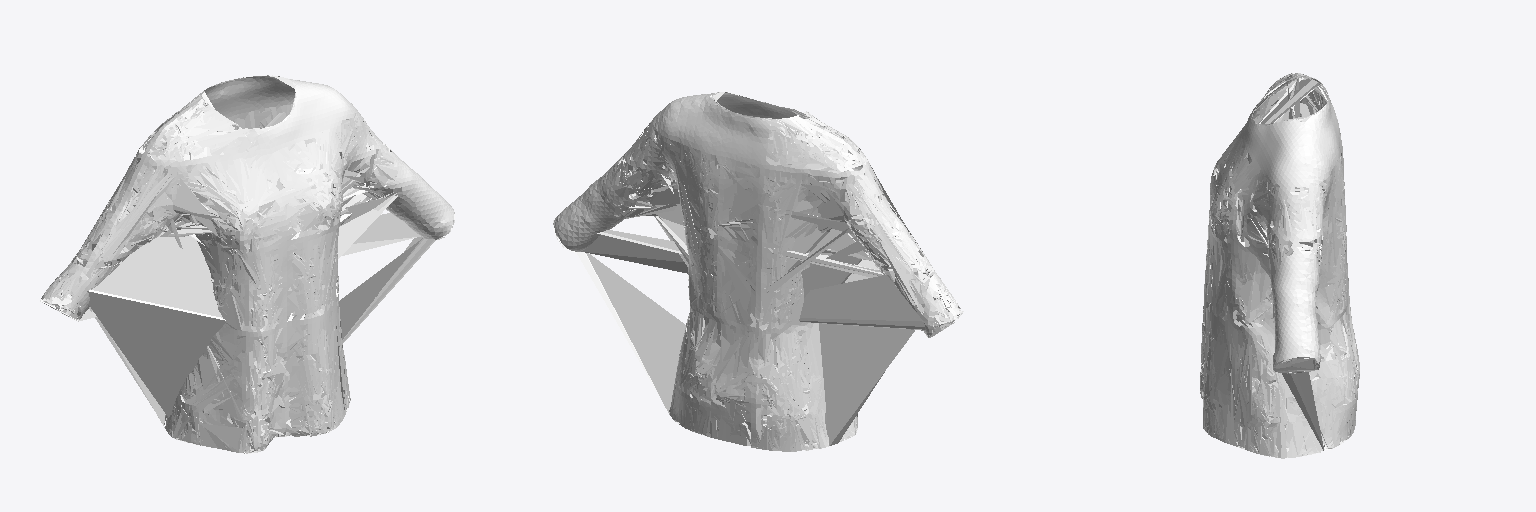
Rendered from [104][Woman][Tops][KT_Blue_T-Shirt][Edited].obj.
3 renders of one model, left to right at view 1: azimuth 30°, elevation 25°; view 2: azimuth 150°, elevation 25°; view 3: azimuth 270°, elevation 25°, orthographic.
Size of the model in its own units: 83.39 by 62.75 by 28.61.